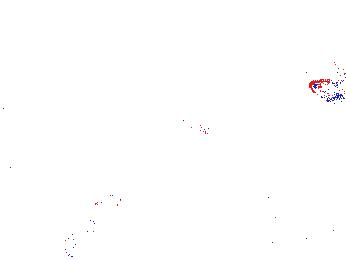glassfish: (69, 181, 136, 245), (185, 115, 286, 155)
red belly glassfish: (309, 79, 346, 100), (327, 59, 346, 73)
redtail glassfish: (221, 1, 292, 24)
